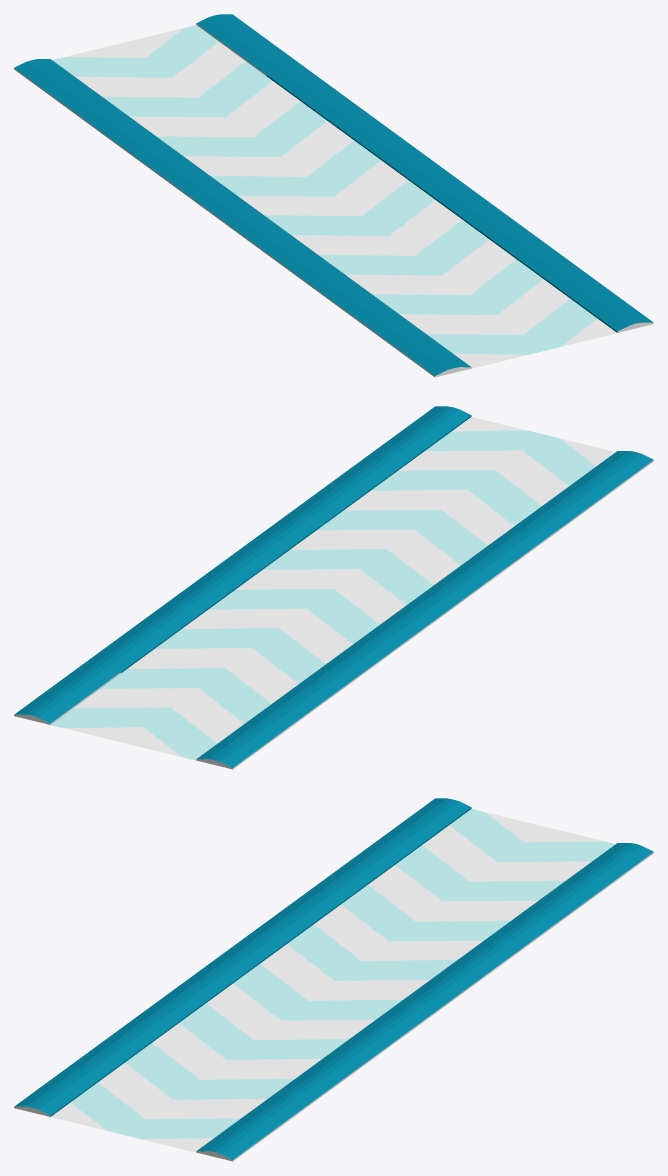
Rendered from road-first.glb.
The picture shows the model from 3 angles, top to bottom: view 1: azimuth 30°, elevation 25°; view 2: azimuth 150°, elevation 25°; view 3: azimuth 330°, elevation 25°; orthographic projection.
Visible parts, largest first — view 1: Plane; view 2: Plane; view 3: Plane.
Part boxes in pixels (x1=…): Plane: x1=14, y1=14, x2=653, y2=377; Plane: x1=14, y1=406, x2=653, y2=769; Plane: x1=14, y1=798, x2=653, y2=1161.
Bounding box in the file's own units: 1.5 × 0.0334 × 5.
Materials: 1 (1 with a texture image).
